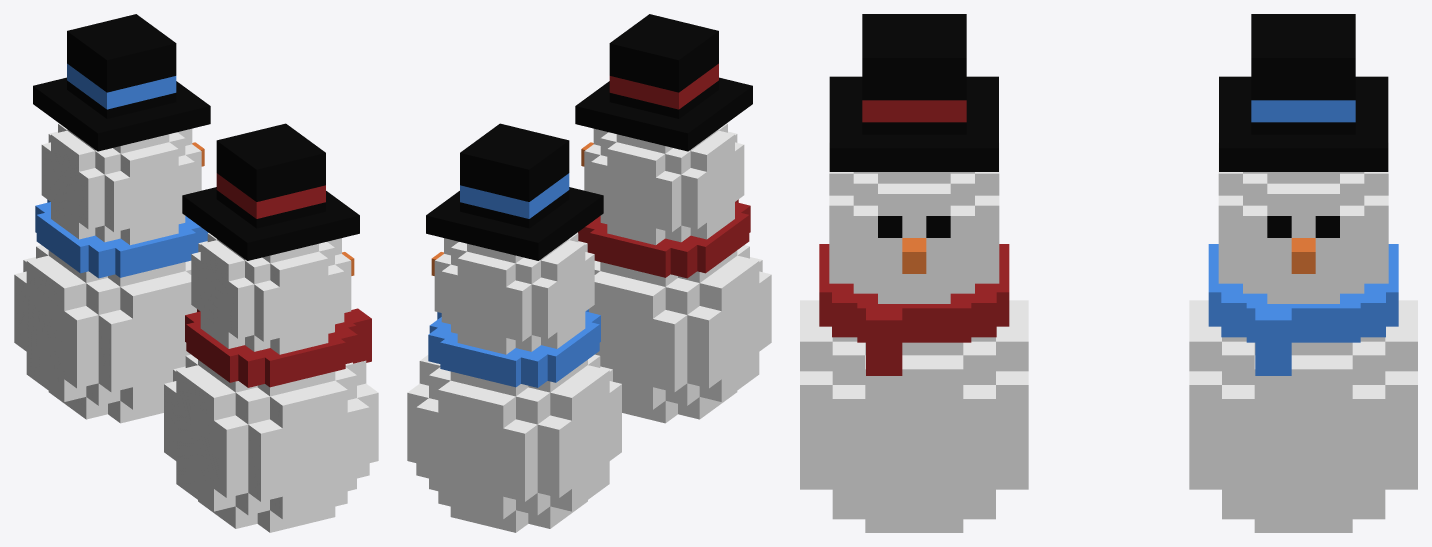
File: SM_Snowman.fbx
The picture shows the model from 3 angles, left to right: view 1: azimuth 30°, elevation 25°; view 2: azimuth 150°, elevation 25°; view 3: azimuth 270°, elevation 25°; orthographic projection. The views are drawn at different scales.
Visible parts, largest first — view 1: SM_Snowman, SM_Snowman.001; view 2: SM_Snowman.001, SM_Snowman; view 3: SM_Snowman, SM_Snowman.001.
Part boxes in pixels (x1,y1,x2,y2): SM_Snowman: (164,123,378,532); SM_Snowman.001: (14,14,210,423); SM_Snowman.001: (407,123,621,532); SM_Snowman: (575,14,771,423); SM_Snowman: (800,14,1028,532); SM_Snowman.001: (1189,14,1417,532).
Size of the model in its own units: 1.83 by 4.76 by 3.93.
